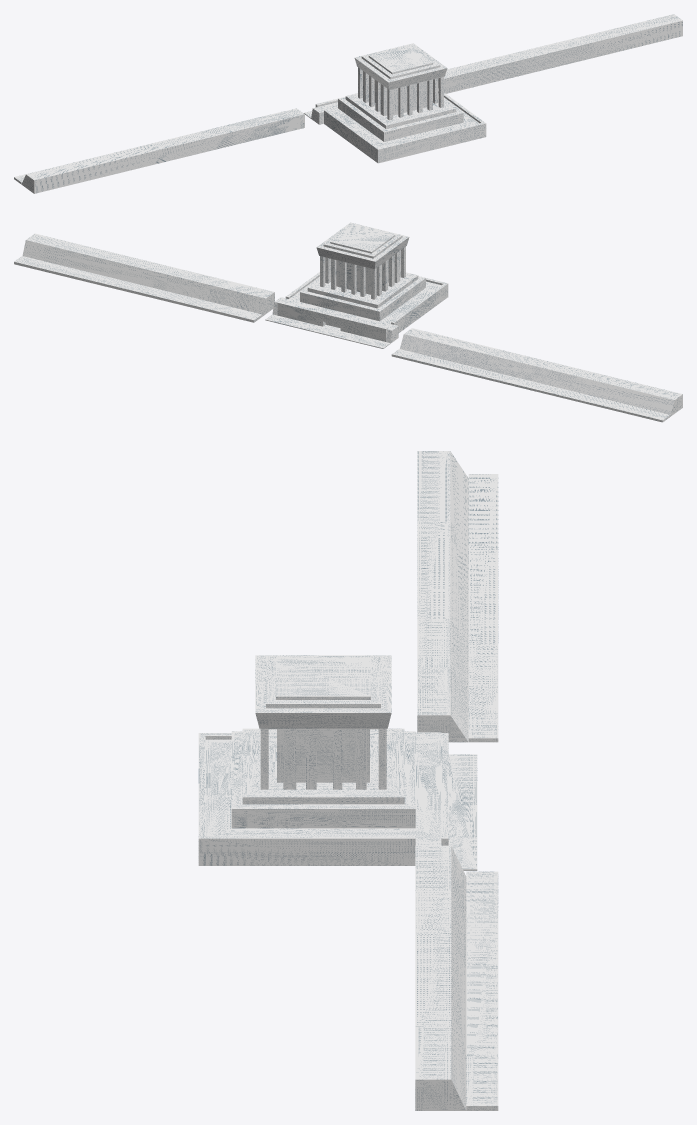
3 renders of one model, top to bottom at view 1: azimuth 30°, elevation 25°; view 2: azimuth 150°, elevation 25°; view 3: azimuth 270°, elevation 25°, orthographic. The views are drawn at different scales.
Visible parts, largest first — view 1: SketchUp (×11); view 2: SketchUp (×11); view 3: SketchUp (×10).
Boxes of the visible parts, <box> form: SketchUp (×11): <box>14,14,682,193</box>; SketchUp (×11): <box>14,222,682,422</box>; SketchUp (×10): <box>198,451,498,1110</box>.
Bounding box in the file's own units: 46277 × 9271 × 4663.
